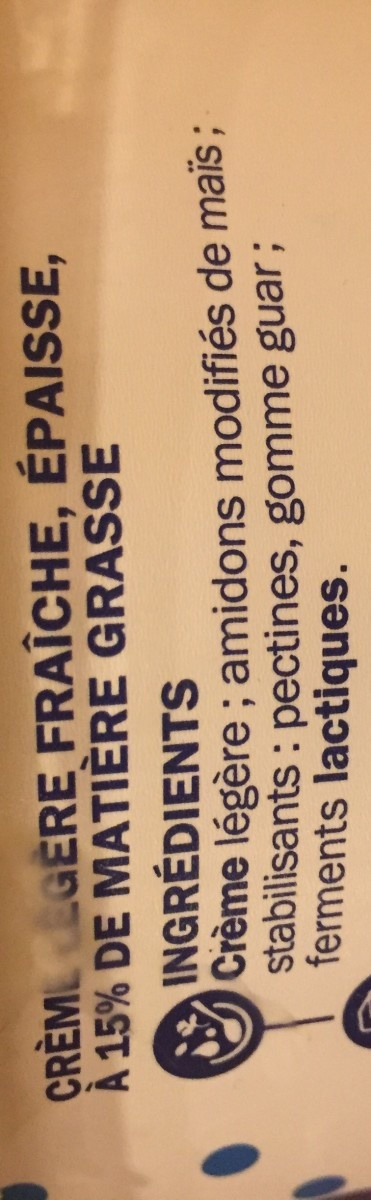ingredients: (149, 104, 364, 1001)
